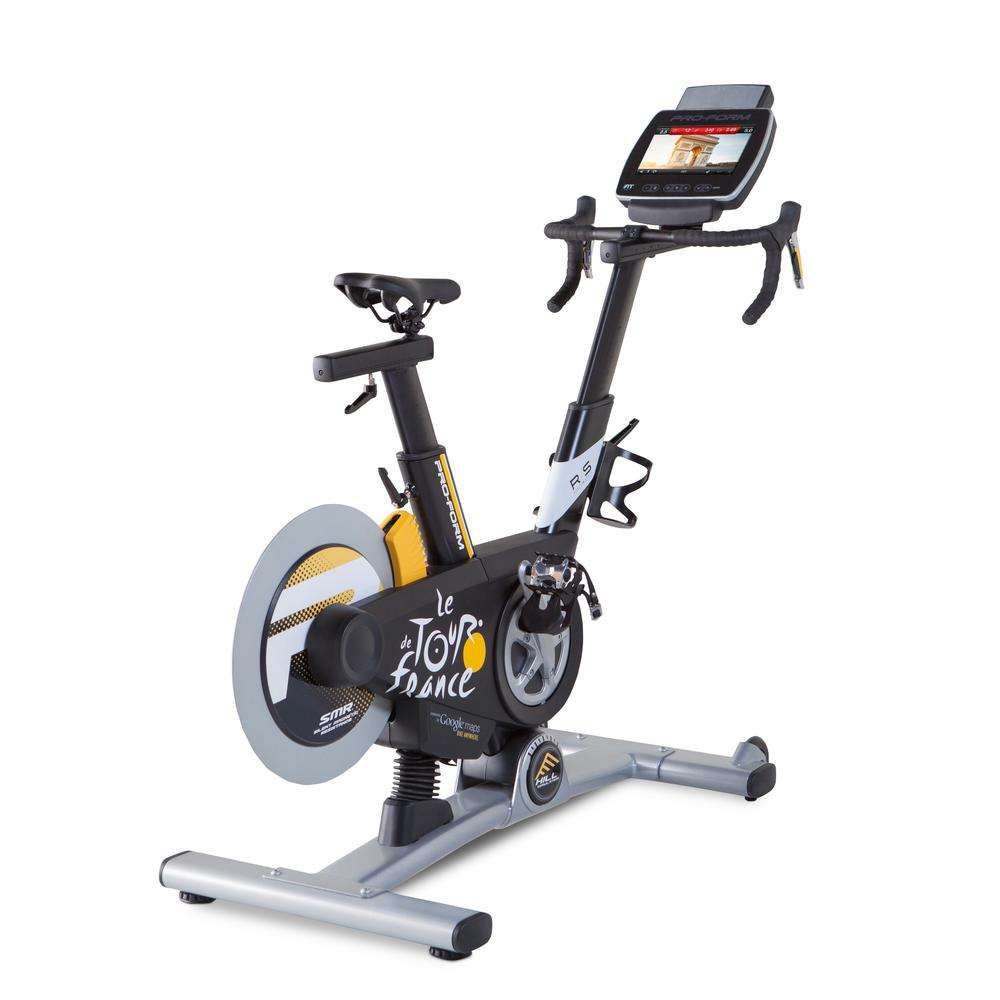gym_bike: (144, 78, 806, 958)
